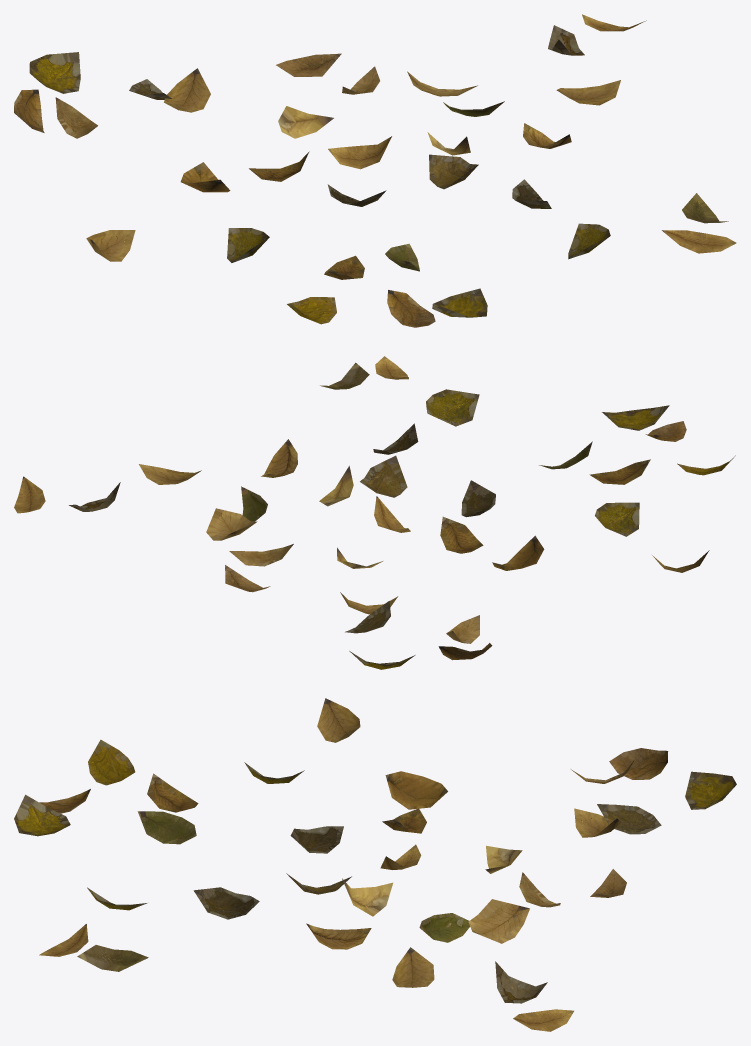
The model's file is SM_Leaves_01d.fbx.
The picture shows the model from 3 angles, top to bottom: view 1: azimuth 30°, elevation 25°; view 2: azimuth 150°, elevation 25°; view 3: azimuth 270°, elevation 25°; orthographic projection. The views are drawn at different scales.
Visible parts, largest first — view 1: SM_Leaves_01d_LOD0; view 2: SM_Leaves_01d_LOD0; view 3: SM_Leaves_01d_LOD0.
Boxes of the visible parts, box(x1,y1,x2,y2) form: SM_Leaves_01d_LOD0: box(14, 14, 736, 327); SM_Leaves_01d_LOD0: box(14, 356, 735, 669); SM_Leaves_01d_LOD0: box(14, 698, 736, 1031).
Bounding box in the file's own units: 119 × 117 × 6.25.
